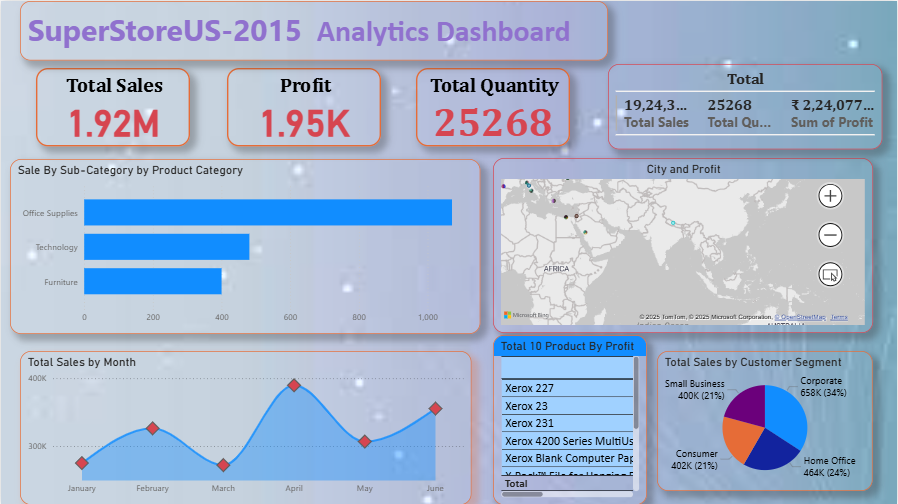

The dashboard page shown, as its layout file describes it:
{"tool":"powerbi","page":{"name":"Page 1","canvas":[1280,720],"ordinal":0},"visuals":[{"type":"card","title":"Total Sales","fields":{"Values":["Orders.Total Sales"]},"box":[50,95,220,111.7],"z":0},{"type":"card","title":"Profit","fields":{"Values":["CountNonNull(Orders.Profit)"]},"box":[323.3,95,220,111.7],"z":1000},{"type":"card","title":"Total Quantity","fields":{"Values":["Orders.Total Quantity"]},"box":[593.3,95,220,111.7],"z":2000},{"type":"actionButton","box":[0,131,99.4,40.3],"z":3000},{"type":"clusteredBarChart","title":"Sale By Sub-Category by Product Category ","fields":{"Category":["Orders.Product Category"],"Y":["CountNonNull(Orders.Product Sub-Category)"]},"box":[13.3,225,671.7,250],"z":4000},{"type":"stackedAreaChart","fields":{"Category":["Orders.Order Date.Variation.Date Hierarchy.Month"],"Y":["Orders.Total Sales"]},"box":[26.7,500,645,220],"z":5000},{"type":"map","fields":{"Category":["Orders.City"],"Series":["Orders.Profit"]},"box":[702.9,224.3,542.9,250],"z":6000},{"type":"tableEx","title":"Total 10 Product By Profit","fields":{"Values":["Orders.Product Name","Orders.Total Sales"]},"box":[703.3,476.7,220,243.3],"z":7000},{"type":"pieChart","fields":{"Category":["Orders.Customer Segment"],"Y":["Orders.Total Sales"]},"box":[936.7,500,308.3,200],"z":8000},{"type":"textbox","box":[26.7,0,840,85],"z":9000},{"type":"multiRowCard","title":"Total","fields":{"Values":["Orders.Total Sales","Orders.Total Quantity","Sum(Orders.Profit)"]},"box":[866.7,90,391.7,121.7],"z":10001}]}

Visuals, with their boxes in screenshot pixels (x1, y1, x2, y2), scaled from the page's 1280x720 canvas onto the 898x504 screenshot:
"Total Sales" card: 35 66 189 145
"Profit" card: 227 66 381 145
"Total Quantity" card: 416 66 571 145
actionButton: 0 92 70 120
"Sale By Sub-Category by Product Category " clusteredBarChart: 9 158 481 332
stackedAreaChart - Orders.Order Date.Variation.Date Hierarchy.Month x Orders.Total Sales: 19 350 471 503
map - Orders.City x Orders.Profit: 493 157 874 332
"Total 10 Product By Profit" tableEx: 493 334 648 503
pieChart - Orders.Customer Segment x Orders.Total Sales: 657 350 873 490
textbox: 19 0 608 59
"Total" multiRowCard: 608 63 883 148
